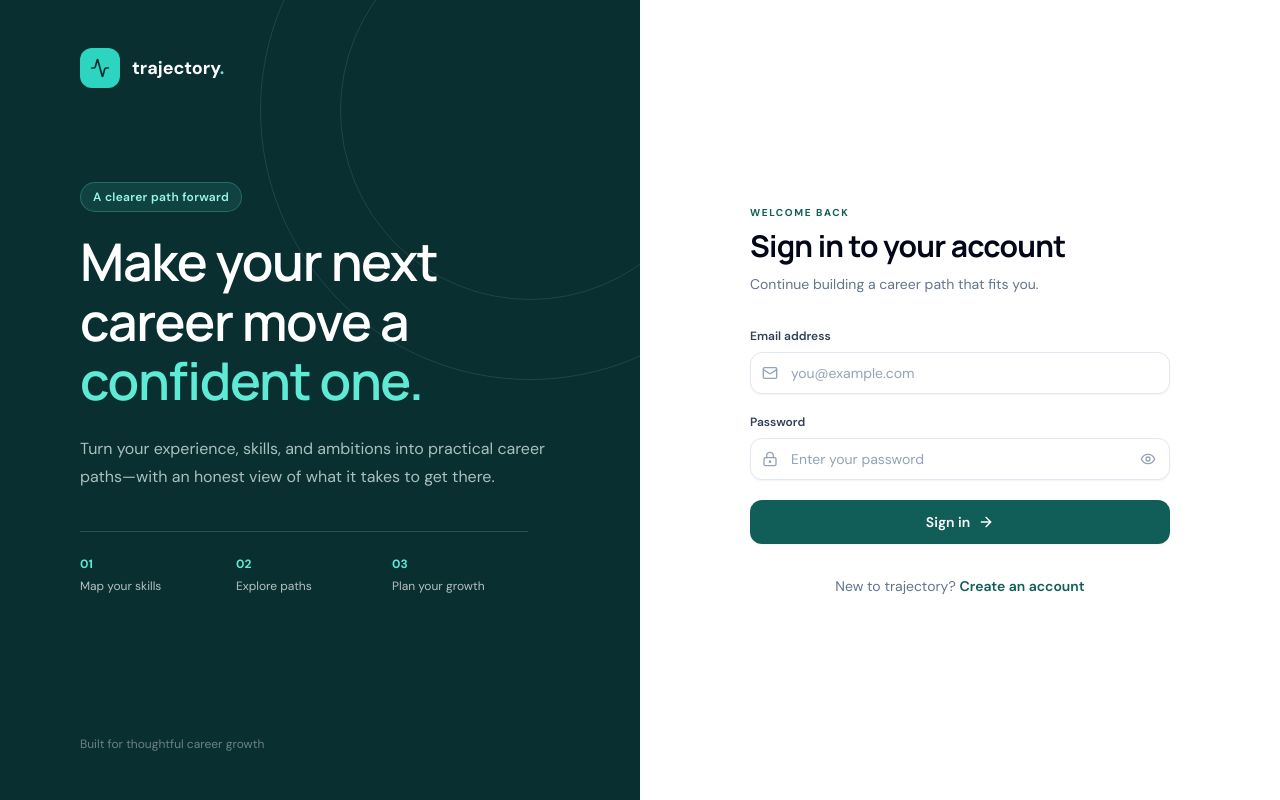
Test: authentication routes › shows the API error when login fails
Type "person@example.com" into the field labelled "Email address".
click(960, 372); type("person@example.com")  # box [750,352,1170,394]
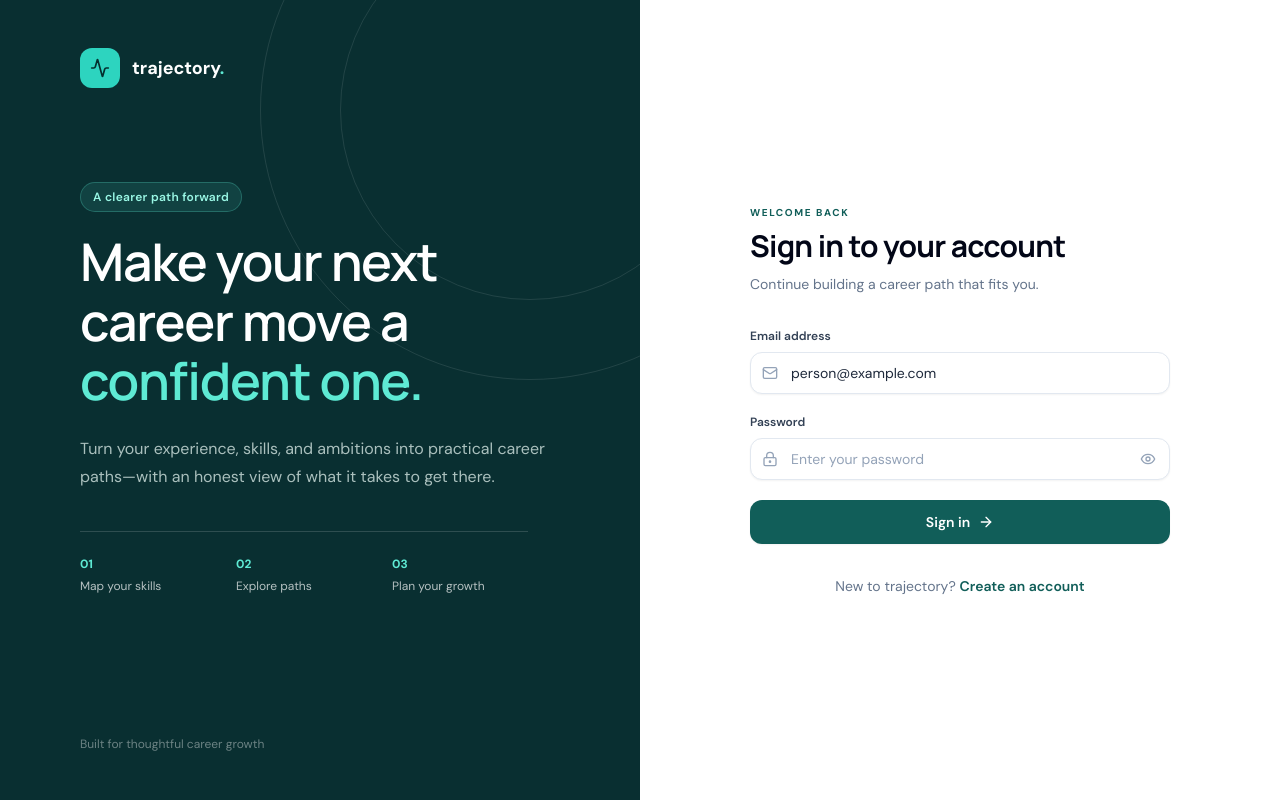
Type "incorrect-password" into the password field labelled "Password".
click(960, 458); type("incorrect-password")  # box [750,438,1170,480]
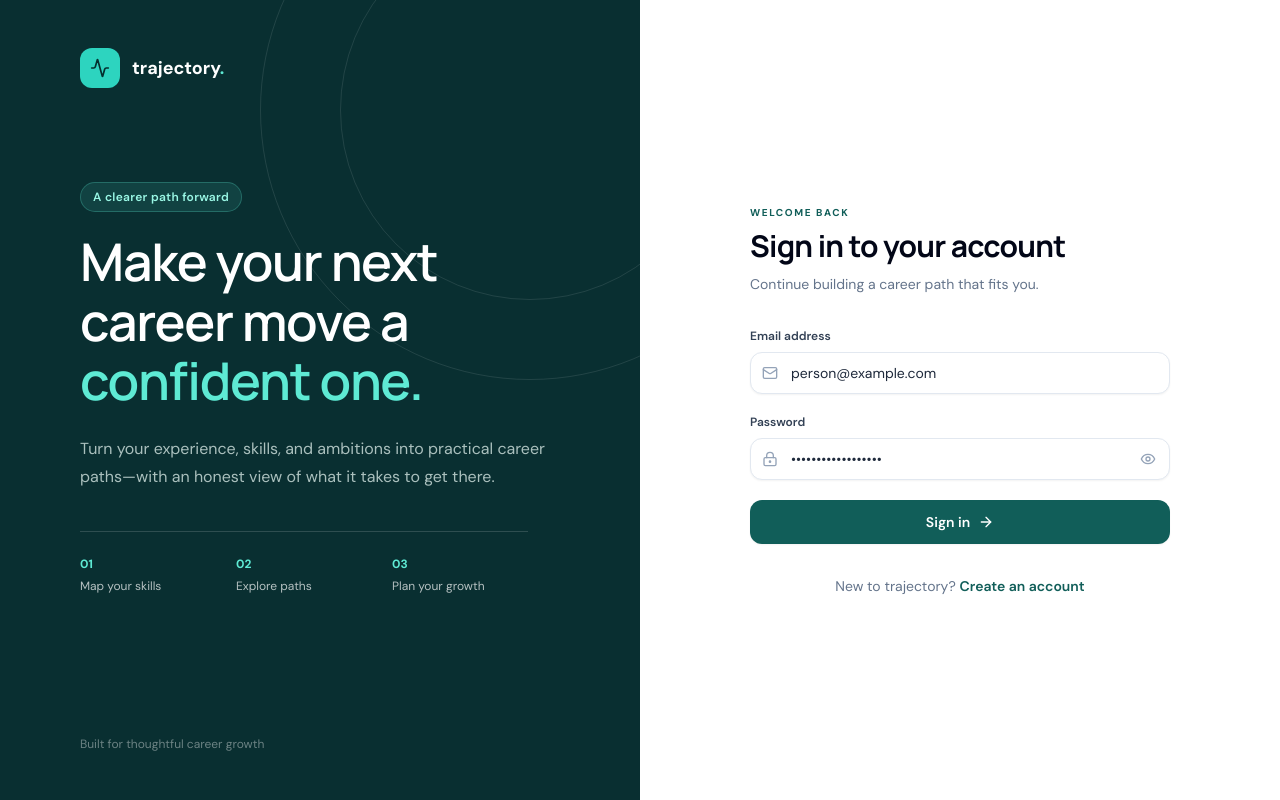
Click the button "Sign in".
click(960, 522)  # box [750,500,1170,544]
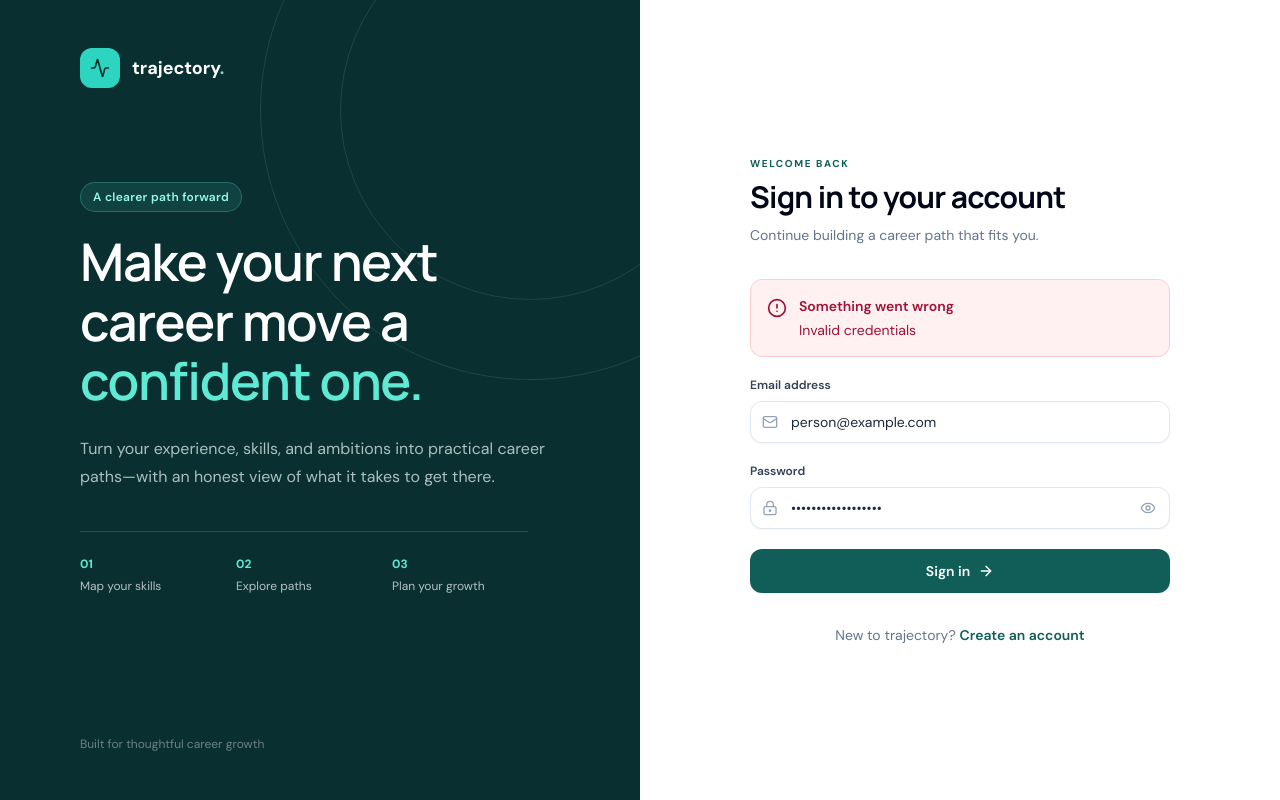
Check: the message shows "Invalid credentials", box [799,320,916,338]
